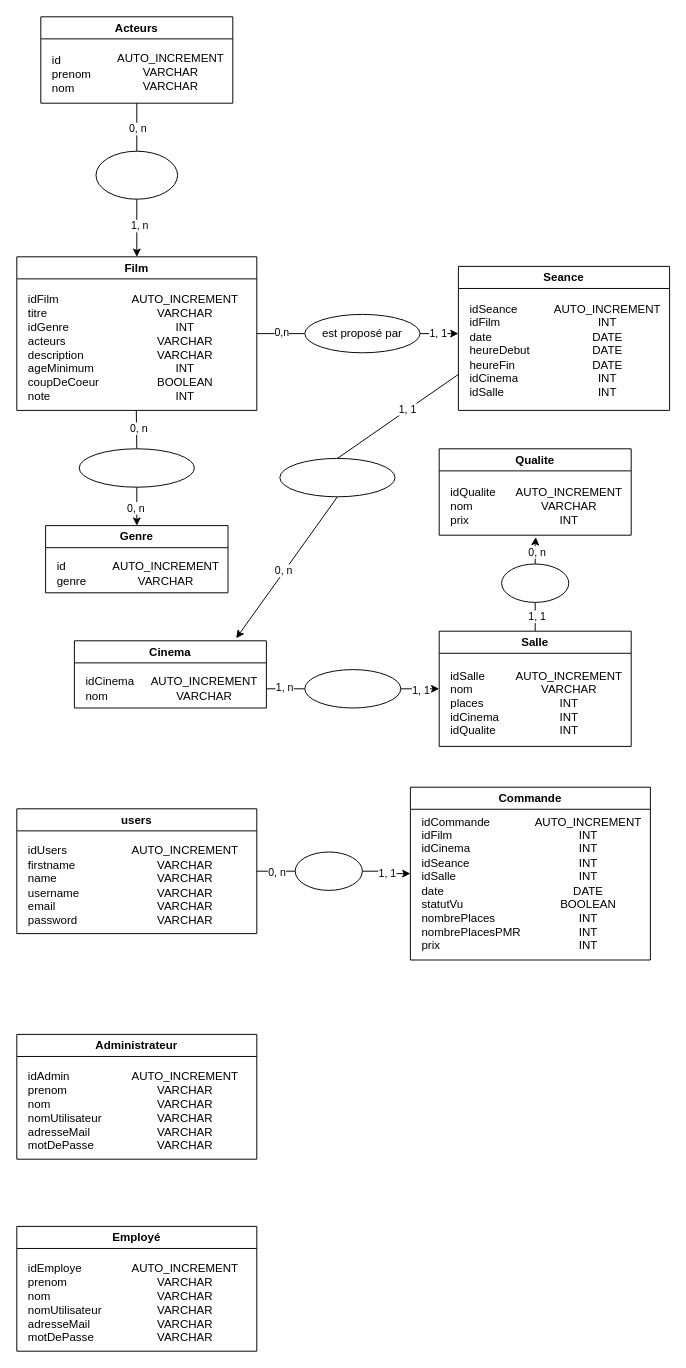
Some shapes in this 686 by 1368 pixel diagram are drawn without their labels. Here are the shapes that lost their labels. From the top down, the centre of each, then its label:
point 136,174: a joué dans
point 136,467: Appartient à
point 337,477: est projetée dans
point 535,582: Propose
point 352,688: Est composé de
point 328,870: effectue
